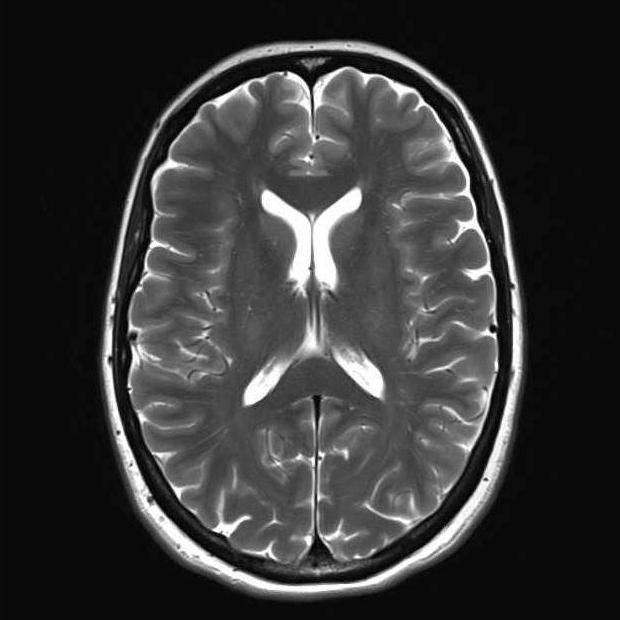Normal_Brain: (1, 1, 609, 601)
